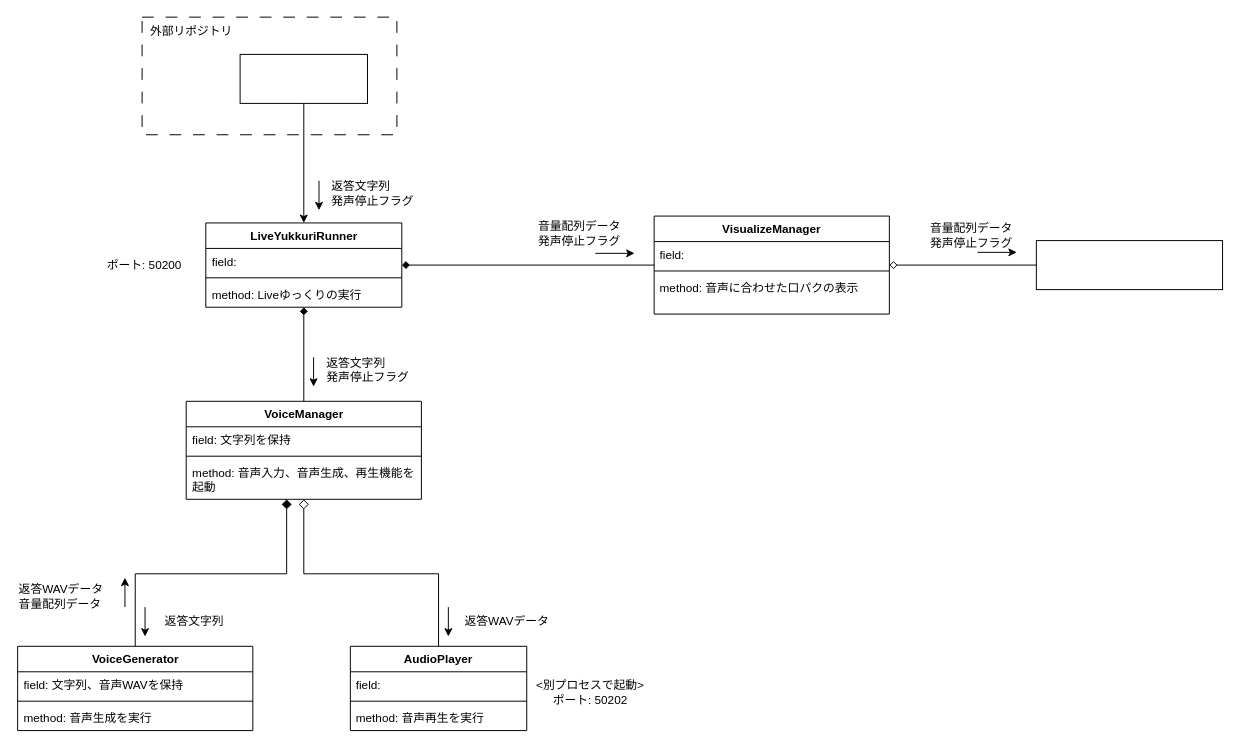
The diagram is 1240 pixels wide and 751 high, and some of its shapes have lost their labels. The centre of each missing label's shape, as x and y in pixels:
"PersonarityEmulator" goes at point 303,78.
"ブラウザ ゆっくりモデルアニメーション" goes at point 1129,265.
